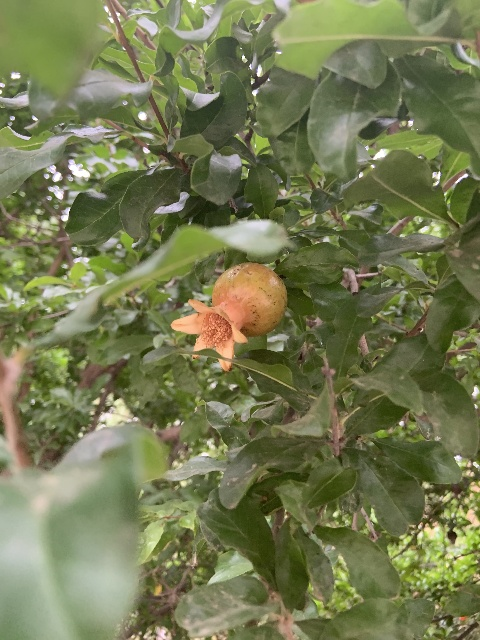early-fruit: (170, 262, 287, 373)
